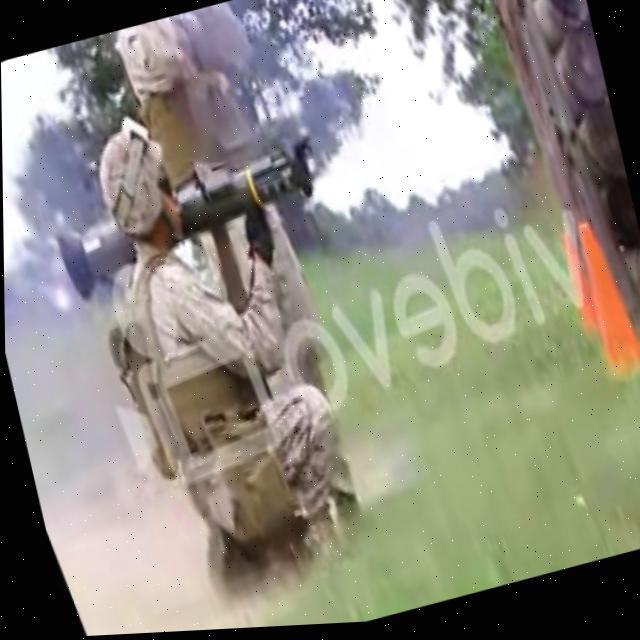rocket: (45, 136, 335, 308)
